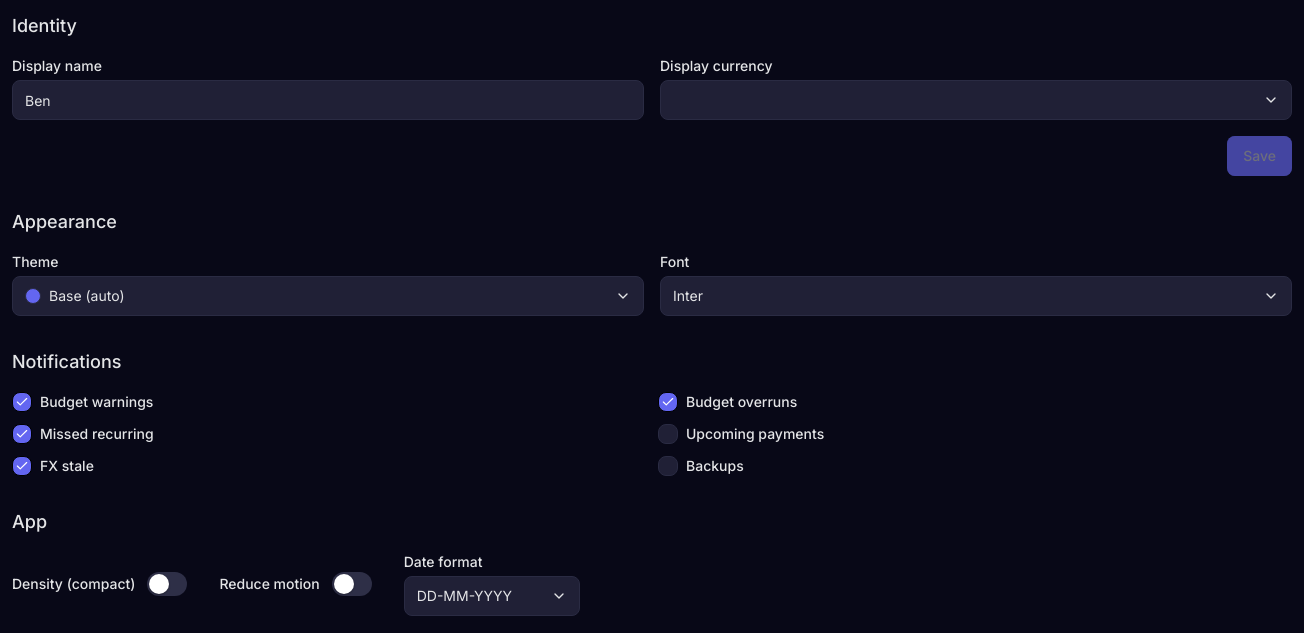
ProfileTab › display currency is a picker of display-active currencies (Story 3.9)
The width and height of the screenshot is (1304, 633).
Click the button named "Display currency".
click(1271, 100)  # box [660,80,1292,120]
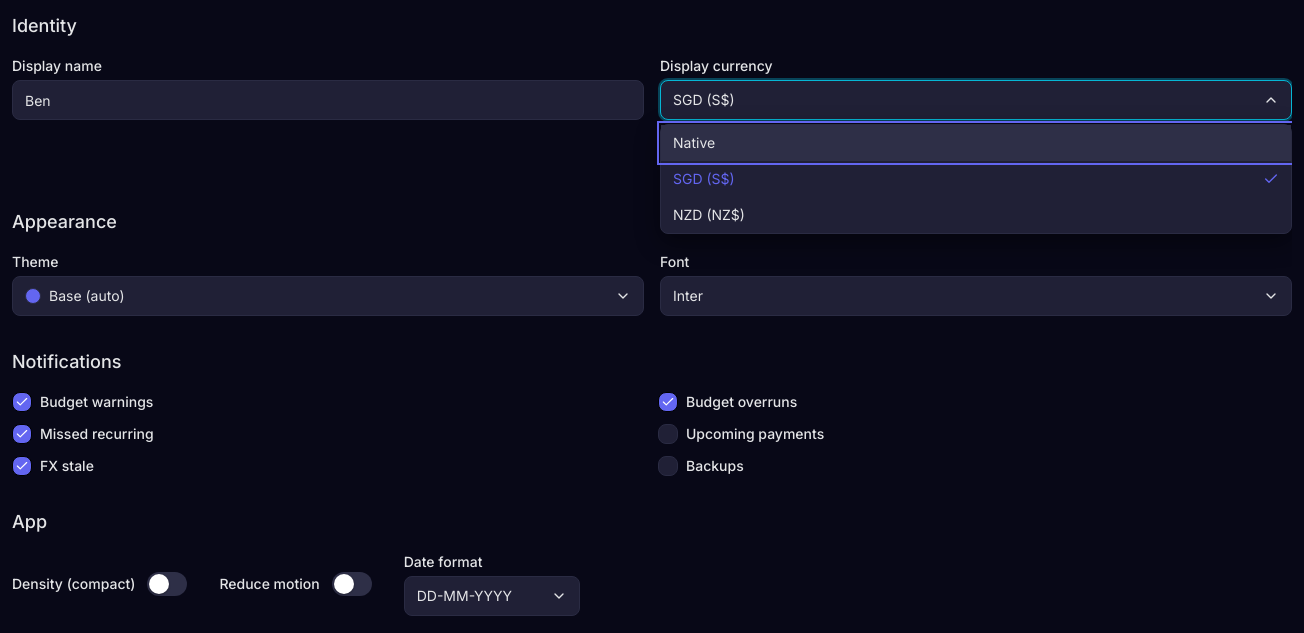
Expected: the option "Native" is shown, [661,125,1291,161]
Expected: the option "NZD (NZ$)" is shown, [661,197,1291,233]
